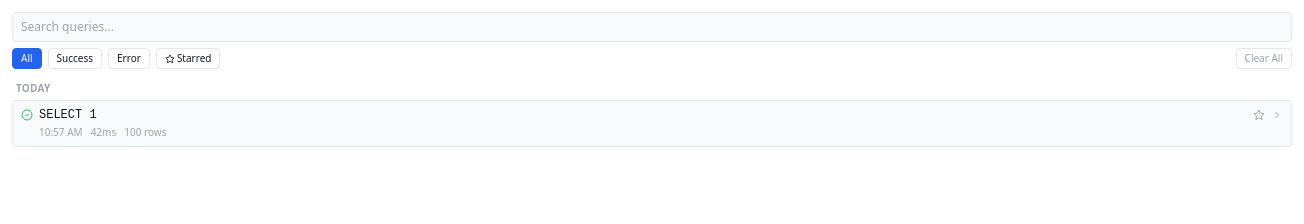
Test case: QH-6: Copy SQL button works › copy button is present for each expanded entry
Visible when expanded
Click the button with test id "query-history-entry-toggle". click: (68, 115)
box: [13,101,1291,146]
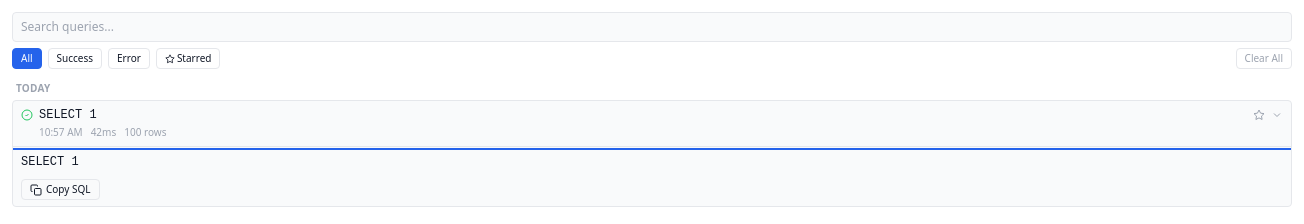
Check: the button with test id "query-history-copy" is shown, box [21,179,100,200]
